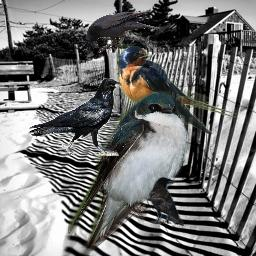Crow: (27, 78, 124, 156), (86, 11, 160, 54), (149, 177, 184, 227)
Swallow: (68, 87, 192, 251), (117, 44, 236, 134)
